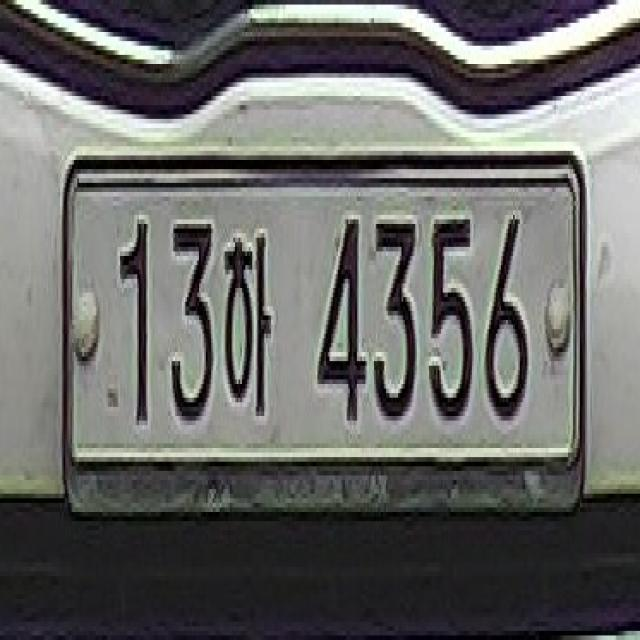1: (112, 206, 160, 448)
3: (371, 196, 422, 439), (163, 215, 216, 430)
4: (314, 215, 369, 443)
5: (424, 192, 482, 439)
6: (480, 210, 536, 430)
ha: (220, 210, 280, 439)
license_plate: (56, 151, 586, 521)
